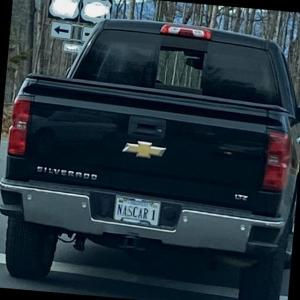Plate: (112, 194, 162, 227)
